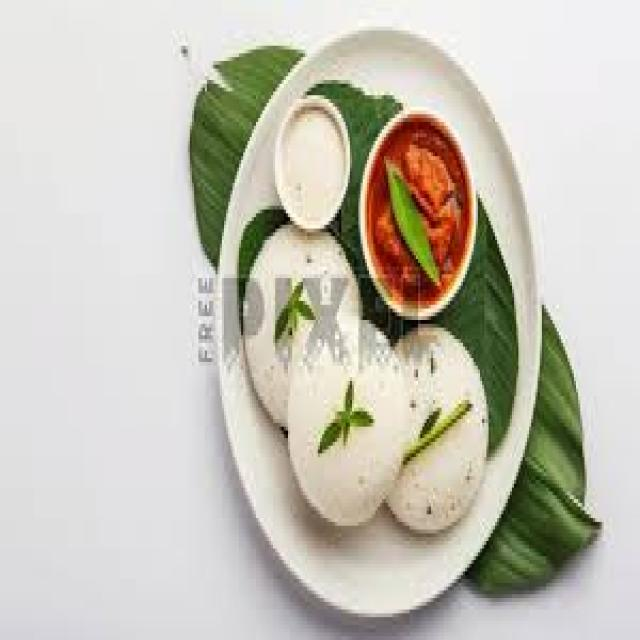IDLI: (287, 315, 407, 527), (245, 223, 362, 419), (385, 324, 490, 533)
